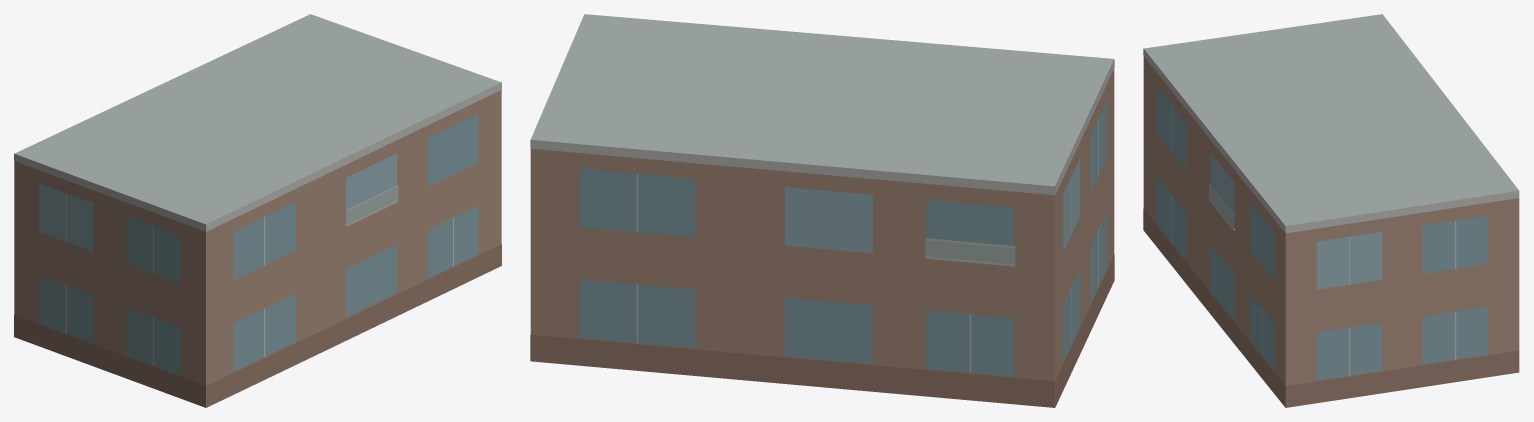
Rendered from survey-upis-32682552.glb.
3 views of the same model, side by side, from view 1: azimuth 30°, elevation 25°; view 2: azimuth 150°, elevation 25°; view 3: azimuth 270°, elevation 25° (orthographic). The views are drawn at different scales.
Parts seen in each view (by area): view 1: survey-upis-32682552.tmp; view 2: survey-upis-32682552.tmp; view 3: survey-upis-32682552.tmp.
Boxes of the visible parts, box(x1,y1,x2,y2) form: survey-upis-32682552.tmp: box(14, 14, 501, 407); survey-upis-32682552.tmp: box(530, 14, 1114, 407); survey-upis-32682552.tmp: box(1143, 14, 1519, 407).
Size of the model in its own units: 15.28 by 6.1 by 11.44.
